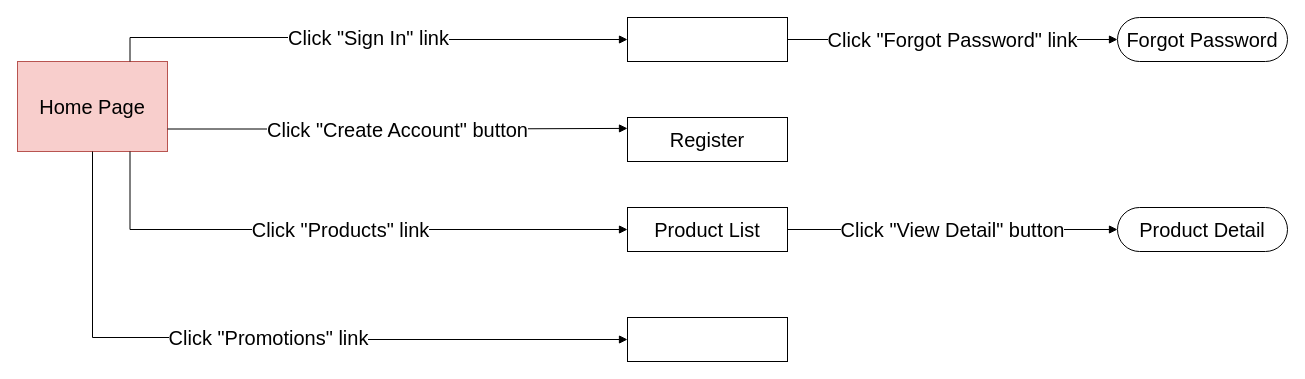
This 1305x379 diagram has some shape labels left out. Each missing label, with the centre of its shape:
"Promotions" goes at (707,339).
"Sign In" goes at (707,39).
